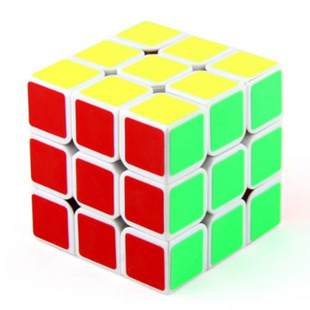cube: (17, 18, 290, 294)
